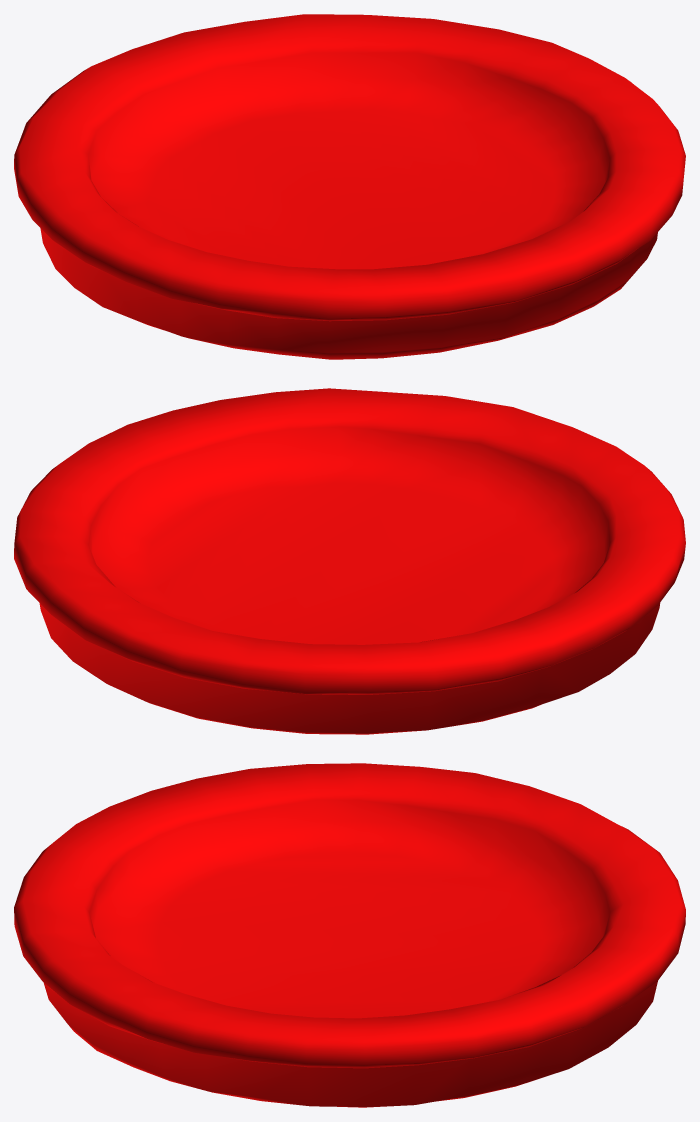
Rendered from Bassin_LowPoly.fbx.
3 renders of one model, top to bottom at view 1: azimuth 30°, elevation 25°; view 2: azimuth 150°, elevation 25°; view 3: azimuth 270°, elevation 25°, orthographic.
Visible parts, largest first — view 1: BSurfaceMesh; view 2: BSurfaceMesh; view 3: BSurfaceMesh.
Part boxes in pixels (<box>): BSurfaceMesh: <box>14,14,685,359</box>; BSurfaceMesh: <box>14,388,685,734</box>; BSurfaceMesh: <box>14,763,685,1107</box>.
Bounding box in the file's own units: 154 × 20.74 × 155.
